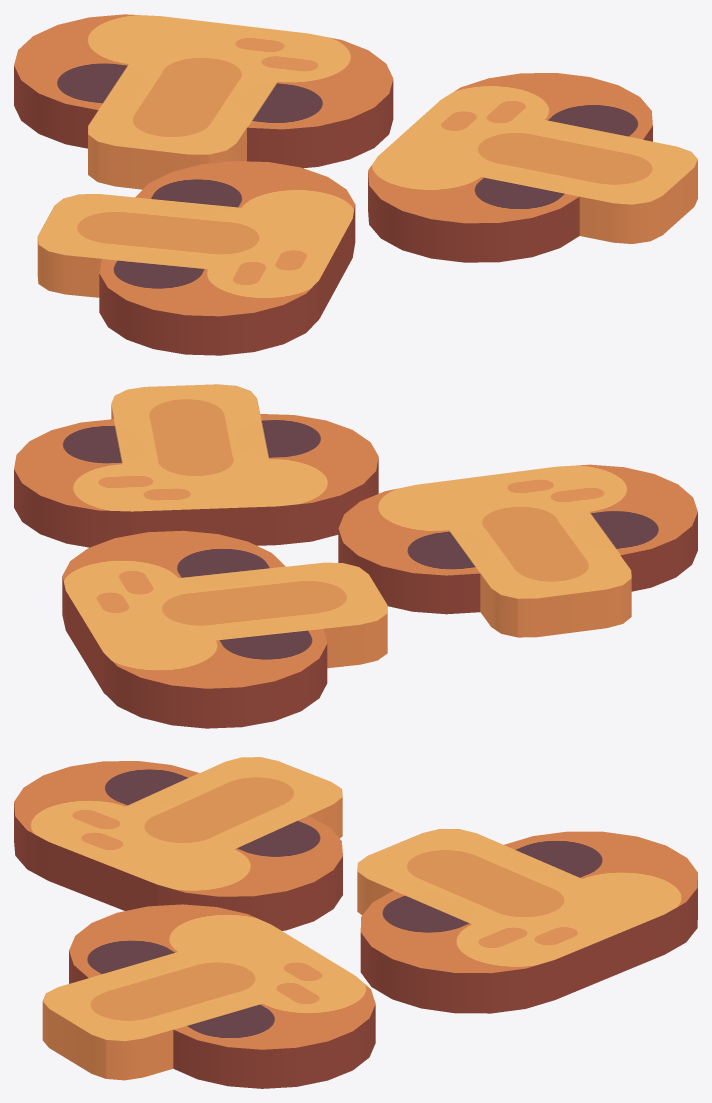
File: Mushroom_Slice_Mushroom_0.glb
The picture shows the model from 3 angles, top to bottom: view 1: azimuth 30°, elevation 25°; view 2: azimuth 150°, elevation 25°; view 3: azimuth 270°, elevation 25°; orthographic projection.
Parts seen in each view (by area): view 1: Mushroom_Slice_Mushroom_0; view 2: Mushroom_Slice_Mushroom_0; view 3: Mushroom_Slice_Mushroom_0.
Part boxes in pixels (left/top/right/bottom): Mushroom_Slice_Mushroom_0: left=14, top=14, right=697, bottom=355; Mushroom_Slice_Mushroom_0: left=14, top=384, right=697, bottom=728; Mushroom_Slice_Mushroom_0: left=14, top=757, right=697, bottom=1088.
Size of the model in its own units: 0.1579 by 0.0102 by 0.156.
1 material, 1 textured.
